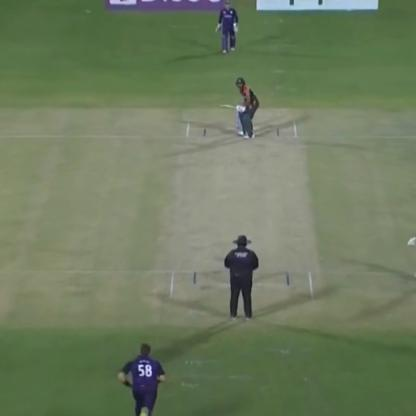bat: (213, 98, 243, 114)
pitch: (165, 118, 315, 304)
